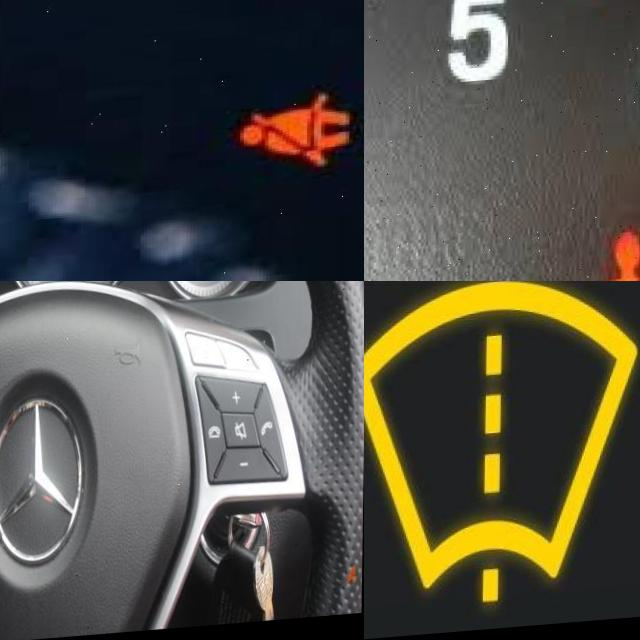Seat Belt: (237, 101, 351, 174)
Washer Fluid: (364, 281, 640, 614)
